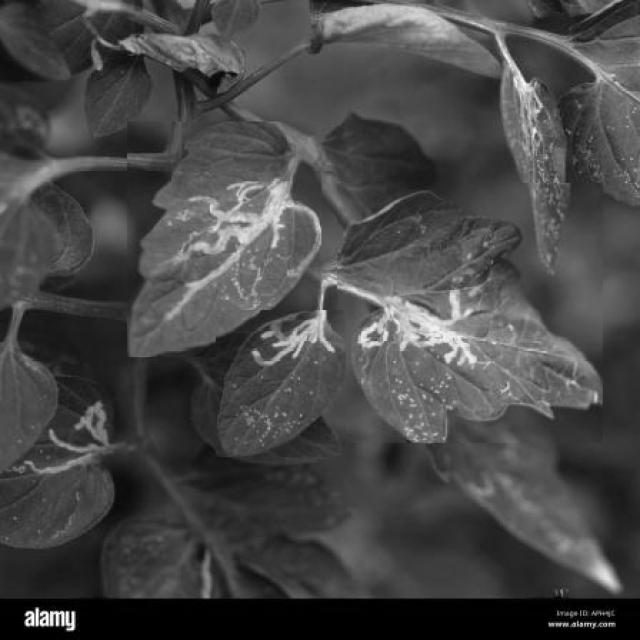Leaf Miner: (338, 183, 602, 443), (128, 122, 322, 357), (216, 310, 346, 457)
